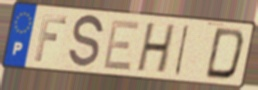D: (203, 26, 247, 82)
E: (100, 19, 142, 73)
F: (32, 13, 69, 63)
H: (134, 22, 178, 76)
I: (172, 23, 192, 78)
S: (66, 13, 106, 71)
